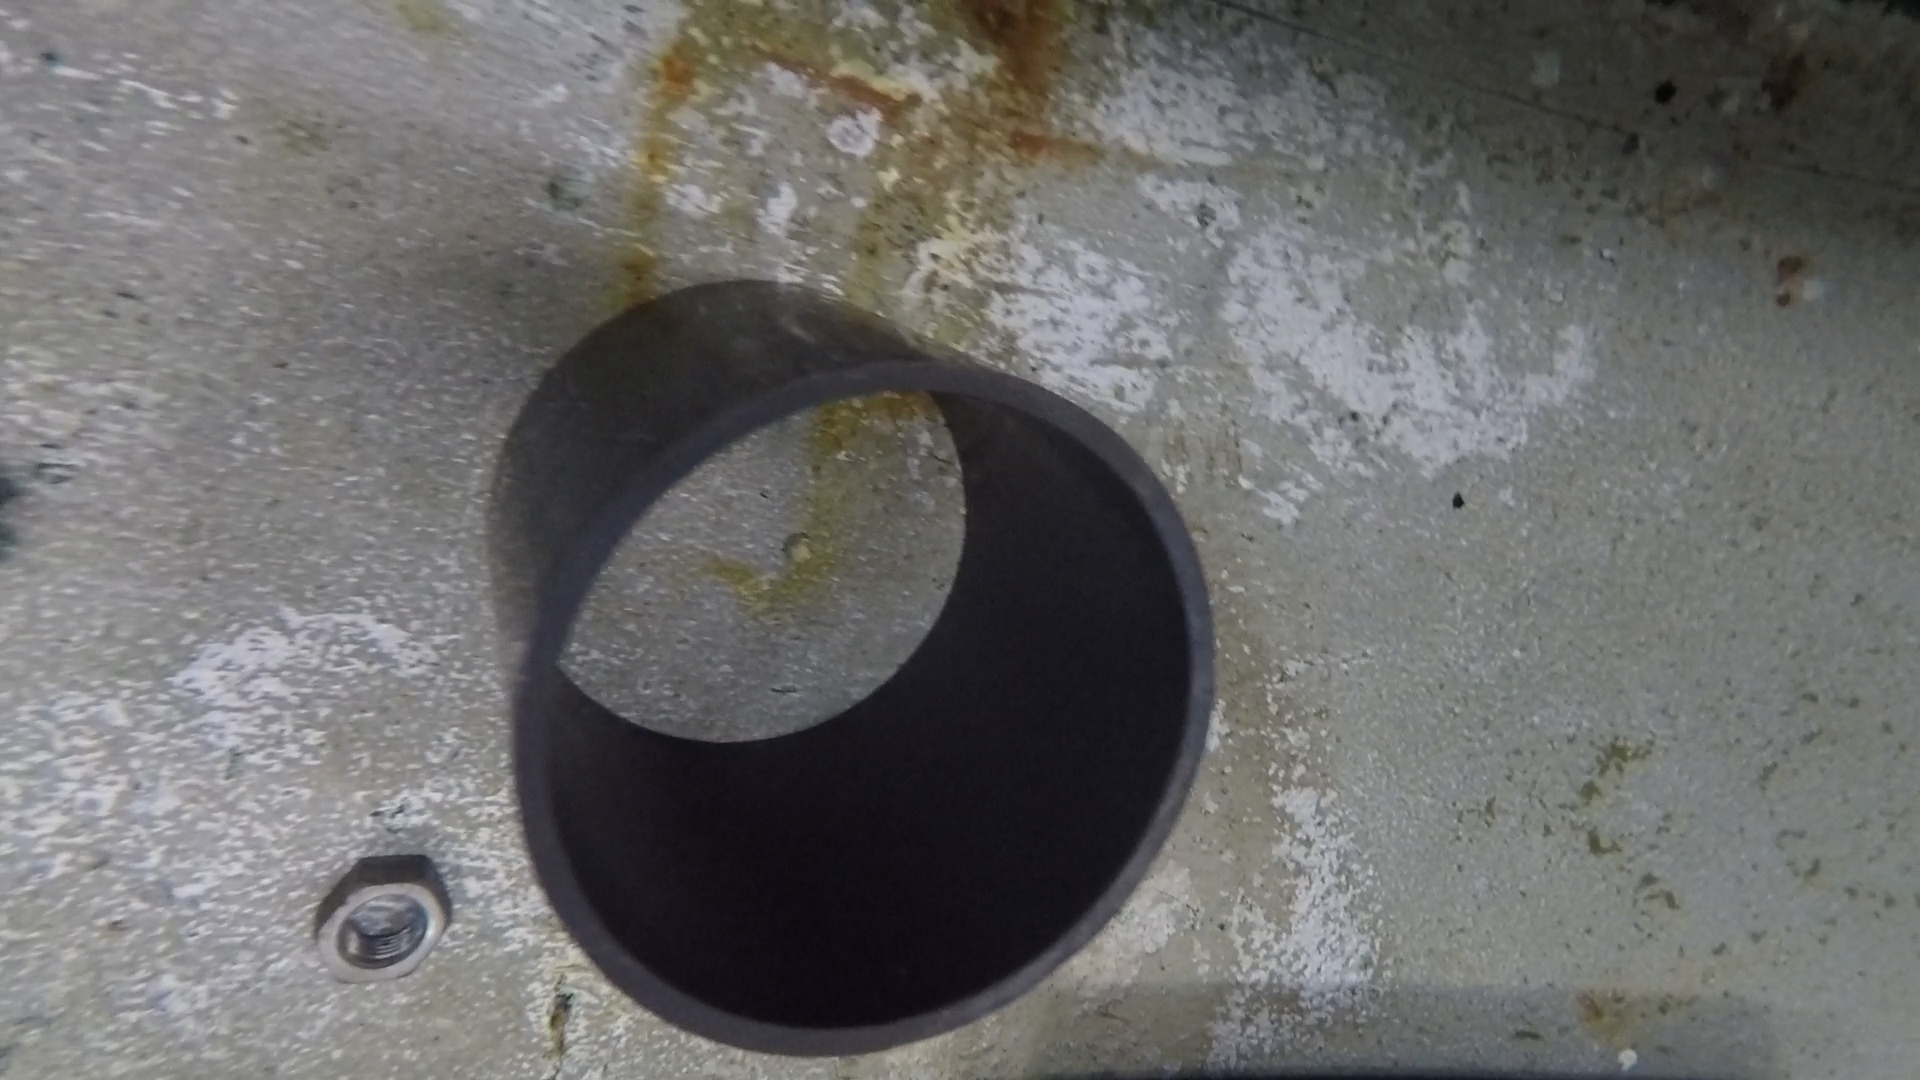nut: (313, 855, 451, 984)
pipe: (493, 280, 1216, 1059)
